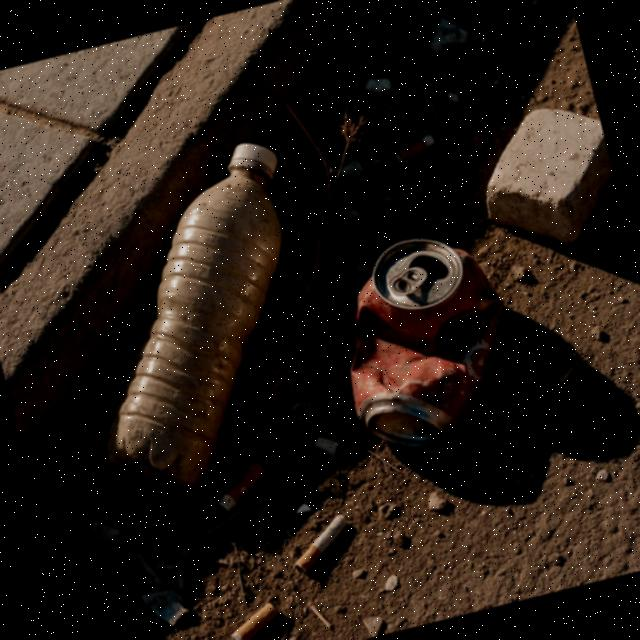aluminum: (318, 218, 532, 460)
plastic: (46, 134, 346, 504)
